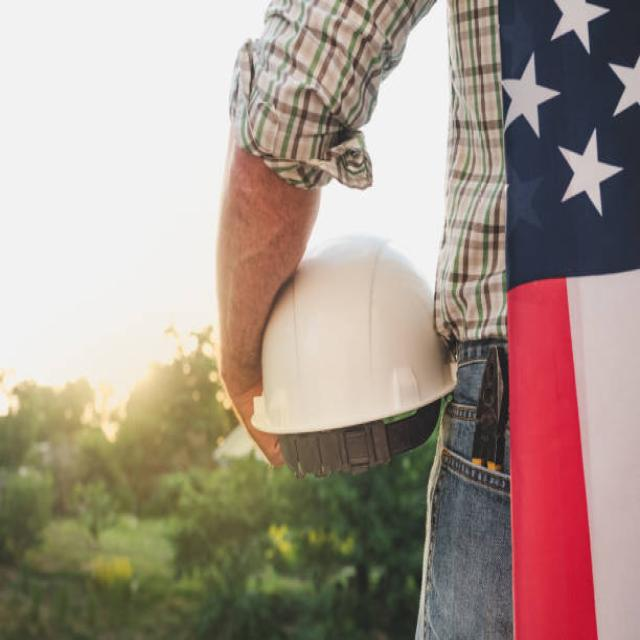helmet: (245, 222, 469, 485)
